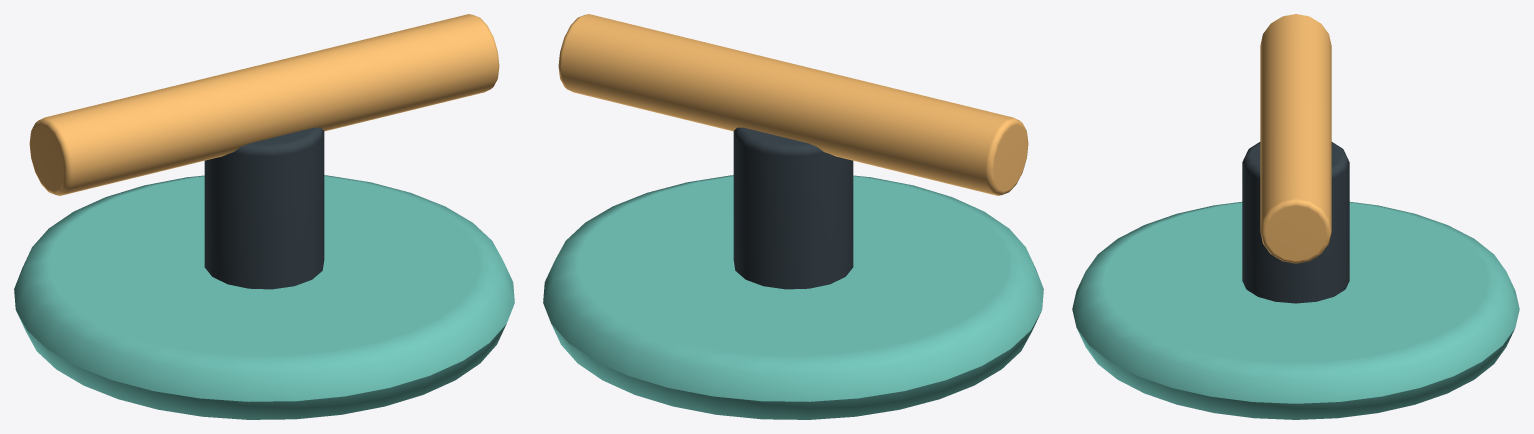
File: suction_cup.glb
The picture shows the model from 3 angles, left to right: view 1: azimuth 30°, elevation 25°; view 2: azimuth 150°, elevation 25°; view 3: azimuth 270°, elevation 25°; orthographic projection. The views are drawn at different scales.
Parts seen in each view (by area): view 1: Suction_cup.001, Suction_handle.001, Suction_stem.001; view 2: Suction_cup.001, Suction_handle.001, Suction_stem.001; view 3: Suction_cup.001, Suction_handle.001, Suction_stem.001.
Part boxes in pixels (left/top/right/bottom): Suction_cup.001: left=14, top=175, right=514, bottom=419; Suction_handle.001: left=29, top=14, right=499, bottom=195; Suction_stem.001: left=204, top=127, right=324, bottom=289; Suction_cup.001: left=543, top=175, right=1043, bottom=419; Suction_handle.001: left=558, top=14, right=1028, bottom=195; Suction_stem.001: left=733, top=127, right=853, bottom=289; Suction_cup.001: left=1072, top=202, right=1519, bottom=419; Suction_handle.001: left=1260, top=14, right=1331, bottom=263; Suction_stem.001: left=1242, top=142, right=1349, bottom=303.
Bounding box in the file's own units: 0.05 × 0.0285 × 0.05.
